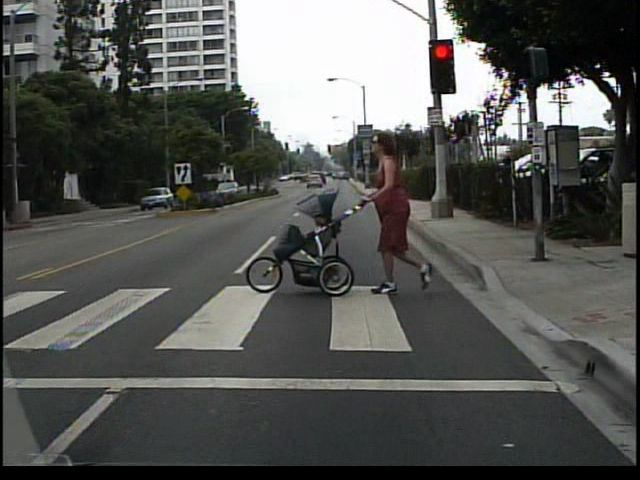person: (358, 132, 452, 300)
